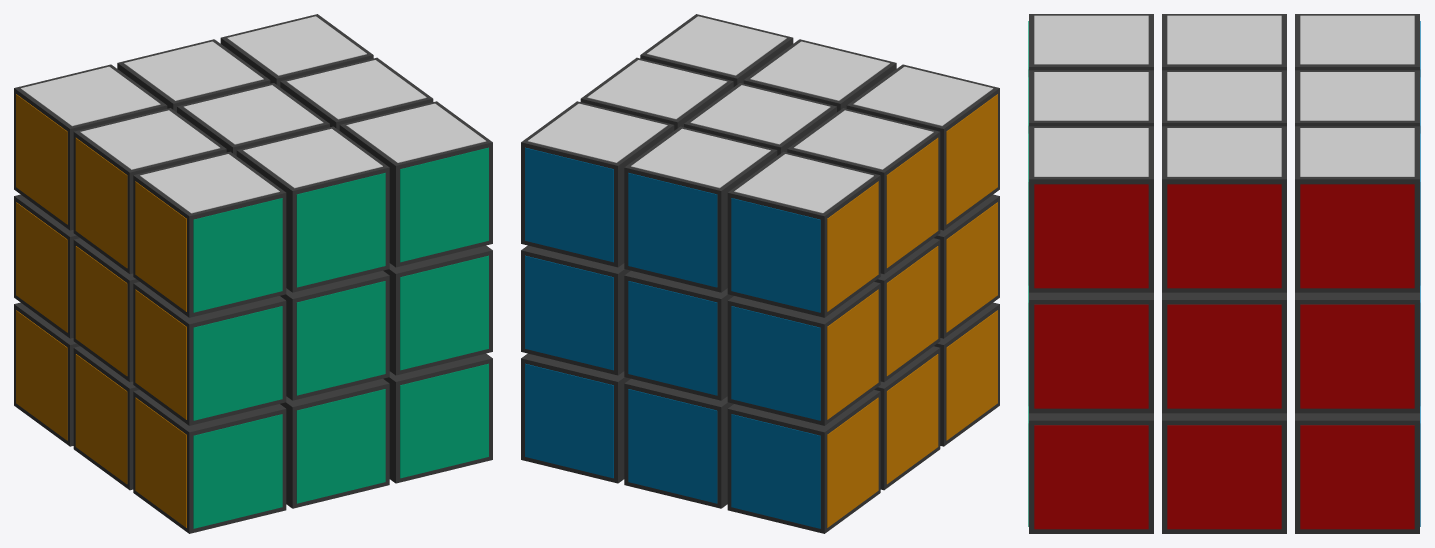
3 renders of one model, left to right at view 1: azimuth 30°, elevation 25°; view 2: azimuth 150°, elevation 25°; view 3: azimuth 270°, elevation 25°, orthographic. The views are drawn at different scales.
Parts seen in each view (by area): view 1: cubie_022, cubie_012, cubie_002, cubie_222, cubie_122, cubie_021, cubie_020, cubie_102, cubie_112, cubie_202, cubie_212, cubie_001 (+7 smaller); view 2: cubie_020, cubie_010, cubie_000, cubie_220, cubie_120, cubie_021, cubie_022, cubie_100, cubie_110, cubie_200, cubie_210, cubie_001 (+7 smaller); view 3: cubie_220, cubie_222, cubie_221, cubie_210, cubie_212, cubie_211, cubie_200, cubie_202, cubie_201, cubie_020, cubie_022, cubie_120 (+3 smaller).
Part boxes in pixels (bbox=[...]): cubie_022: bbox=[133, 151, 286, 317]; cubie_012: bbox=[133, 282, 286, 425]; cubie_002: bbox=[133, 390, 286, 533]; cubie_222: bbox=[339, 101, 492, 267]; cubie_122: bbox=[236, 126, 389, 292]; cubie_021: bbox=[73, 108, 226, 273]; cubie_020: bbox=[14, 64, 167, 230]; cubie_102: bbox=[280, 378, 389, 508]; cubie_112: bbox=[280, 270, 389, 400]; cubie_202: bbox=[383, 353, 492, 483]; cubie_212: bbox=[383, 245, 492, 375]; cubie_001: bbox=[73, 346, 139, 490]; cubie_020: bbox=[727, 151, 880, 317]; cubie_010: bbox=[727, 282, 880, 425]; cubie_000: bbox=[727, 390, 880, 533]; cubie_220: bbox=[521, 101, 674, 267]; cubie_120: bbox=[624, 126, 777, 292]; cubie_021: bbox=[787, 108, 940, 273]; cubie_022: bbox=[846, 64, 999, 230]; cubie_100: bbox=[624, 378, 733, 508]; cubie_110: bbox=[624, 270, 733, 400]; cubie_200: bbox=[521, 353, 630, 483]; cubie_210: bbox=[521, 245, 630, 375]; cubie_001: bbox=[874, 346, 940, 490]; cubie_220: bbox=[1295, 126, 1420, 292]; cubie_222: bbox=[1028, 126, 1153, 292]; cubie_221: bbox=[1162, 126, 1286, 292]; cubie_210: bbox=[1295, 285, 1420, 413]; cubie_212: bbox=[1028, 285, 1153, 413]; cubie_211: bbox=[1162, 292, 1286, 413]; cubie_200: bbox=[1295, 406, 1420, 533]; cubie_202: bbox=[1028, 406, 1153, 533]; cubie_201: bbox=[1162, 413, 1286, 533]; cubie_020: bbox=[1295, 14, 1420, 77]; cubie_022: bbox=[1028, 14, 1153, 77]; cubie_120: bbox=[1295, 70, 1420, 133].
Size of the model in its own units: 2.95 by 2.95 by 2.95.
